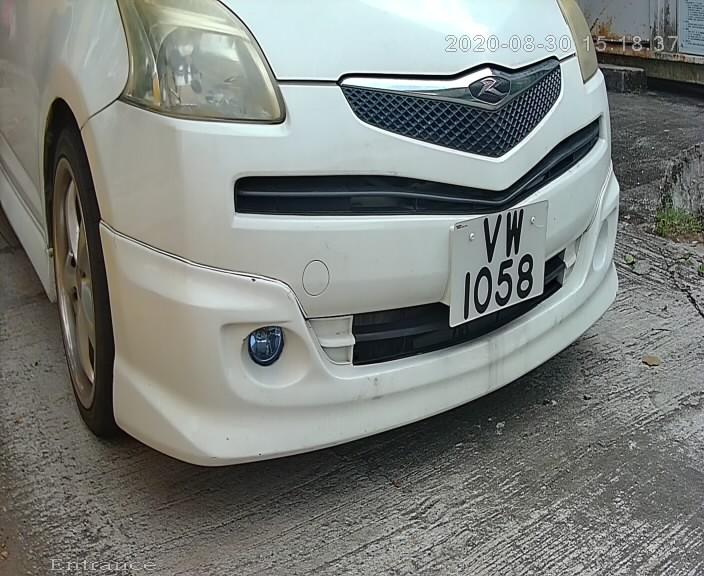License Plate: (444, 204, 547, 335)
